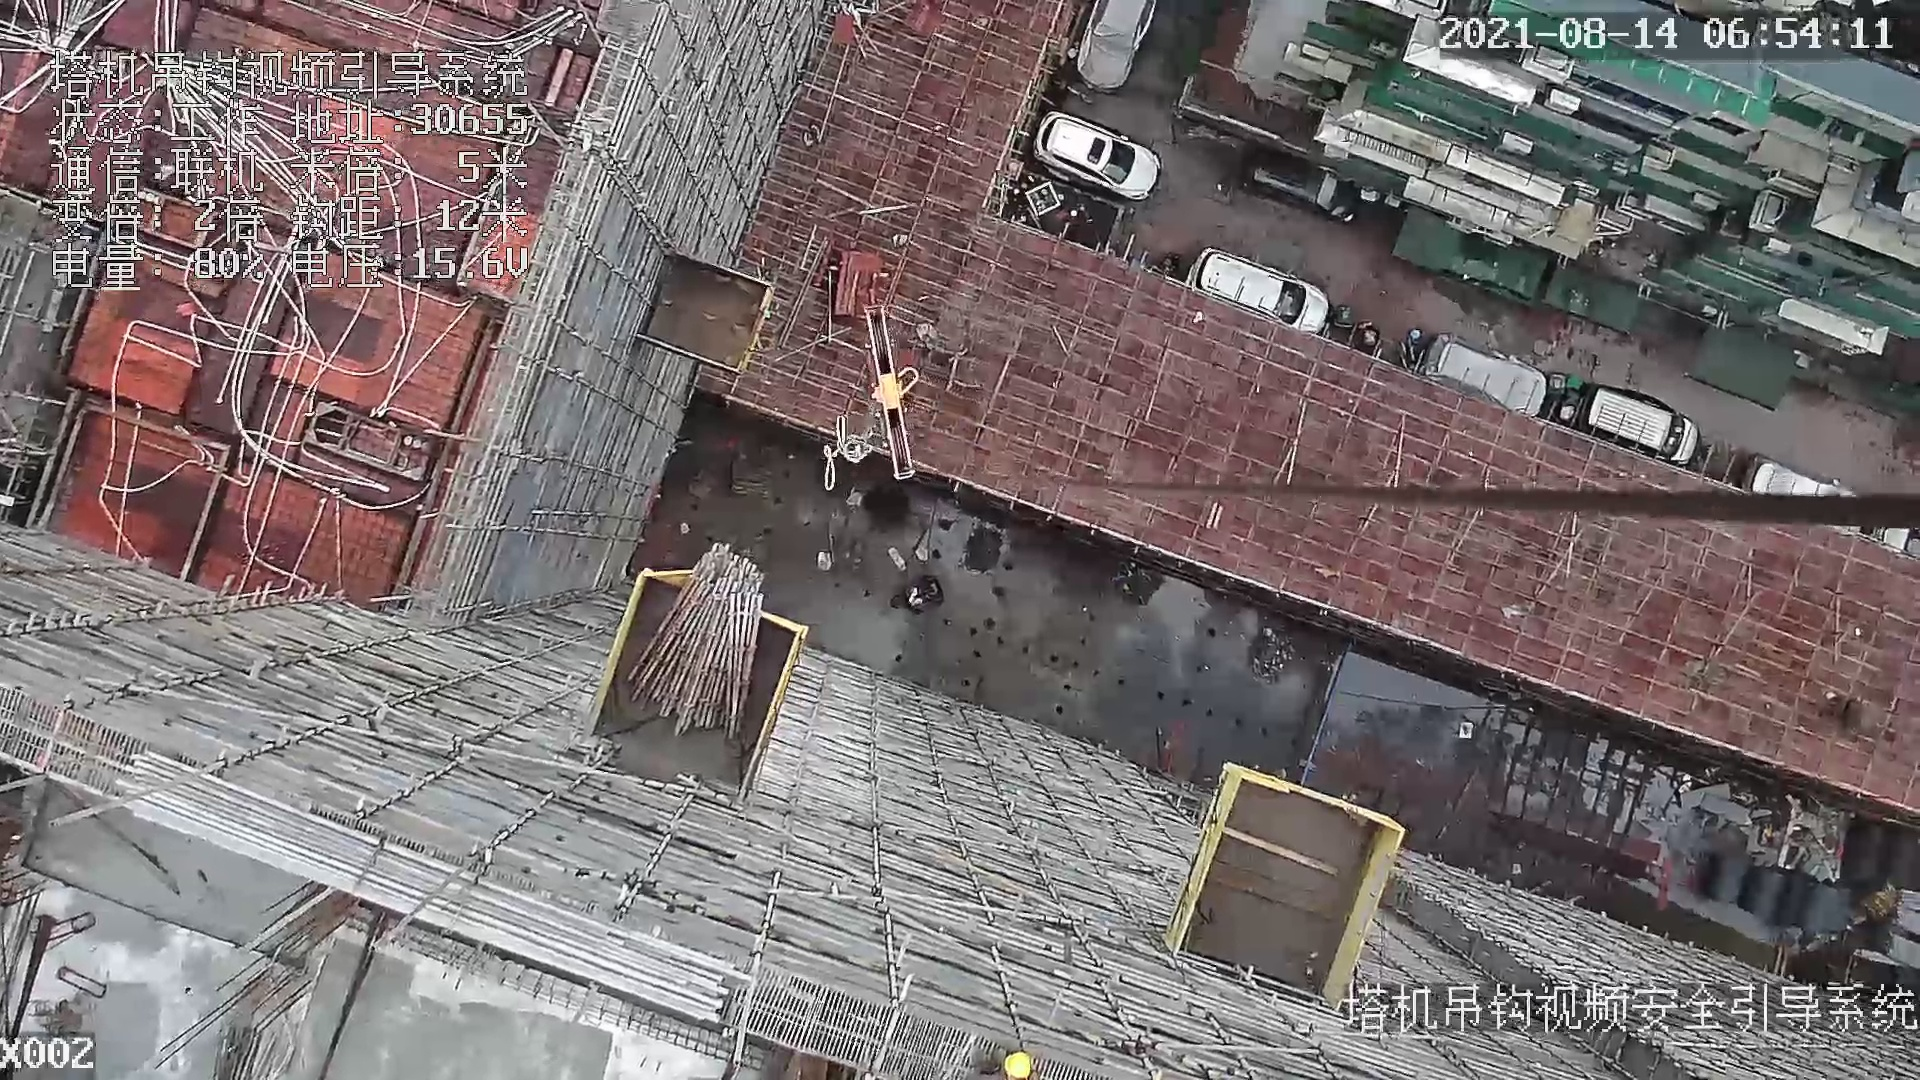helmet: (1004, 1054, 1034, 1079)
hook: (862, 299, 924, 476)
rebar: (113, 746, 729, 1029)
scaffold: (628, 543, 764, 740)
